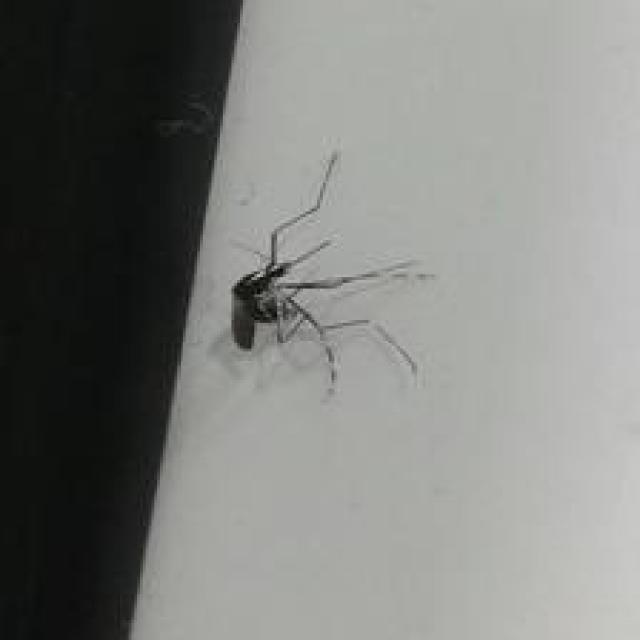Aedes albopictus: (227, 150, 436, 396)
